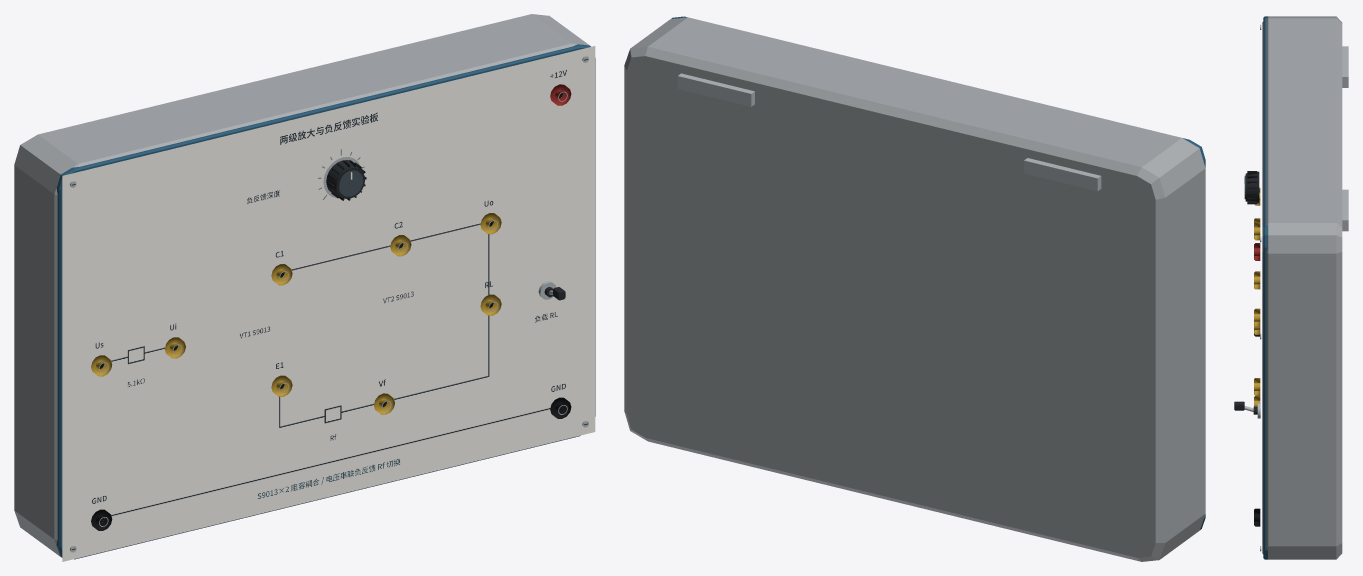
The model's file is module.glb.
3 views of the same model, side by side, from view 1: azimuth 30°, elevation 25°; view 2: azimuth 150°, elevation 25°; view 3: azimuth 270°, elevation 25° (orthographic). The views are drawn at different scales.
Visible parts, largest first — view 1: PANEL_silkscreen, STATIC_paint, MOVING_SW_FB_paint, STATIC_metal; view 2: STATIC_paint, STATIC_metal; view 3: STATIC_paint, STATIC_metal, MOVING_SW_FB_paint, MOVING_SW_RL_paint.
Boxes of the visible parts, bbox=[...] form: PANEL_silkscreen: bbox=[62, 46, 595, 561]; STATIC_paint: bbox=[14, 14, 595, 559]; MOVING_SW_FB_paint: bbox=[326, 160, 366, 200]; STATIC_metal: bbox=[70, 56, 588, 552]; STATIC_paint: bbox=[624, 16, 1205, 561]; STATIC_metal: bbox=[677, 73, 1101, 191]; STATIC_paint: bbox=[1254, 16, 1342, 559]; STATIC_metal: bbox=[1257, 24, 1348, 551]; MOVING_SW_FB_paint: bbox=[1244, 171, 1259, 204]; MOVING_SW_RL_paint: bbox=[1234, 401, 1257, 414].
Bounding box in the file's own units: 0.264 × 0.184 × 0.0568.
5 materials, 1 textured.
